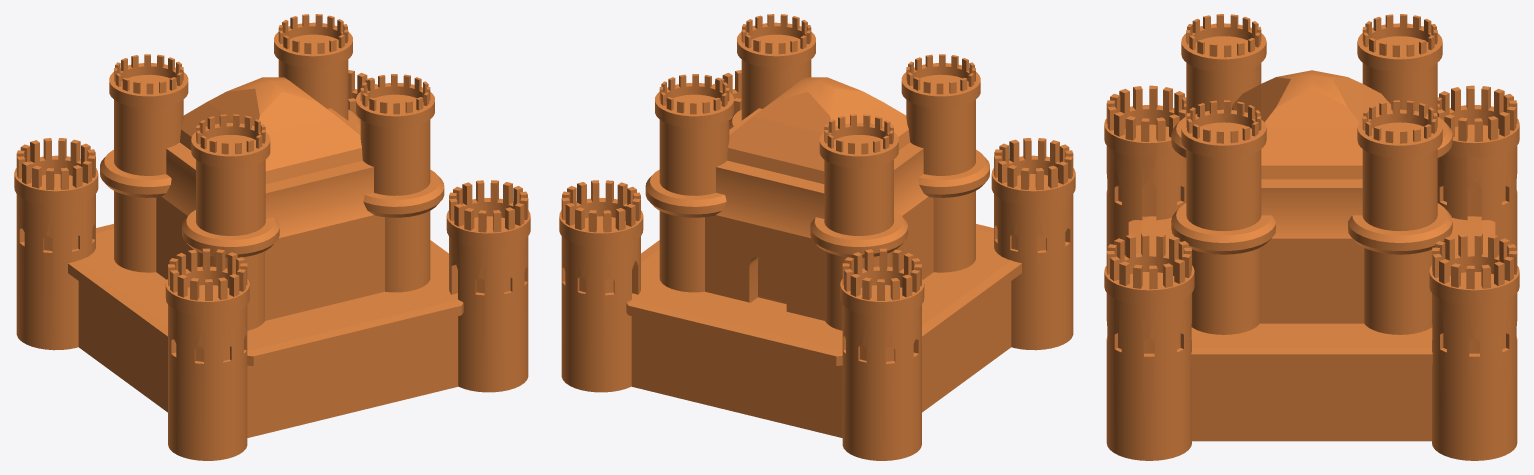
File: Castelo_Castle.fbx
The picture shows the model from 3 angles, left to right: view 1: azimuth 30°, elevation 25°; view 2: azimuth 150°, elevation 25°; view 3: azimuth 270°, elevation 25°; orthographic projection. The views are drawn at different scales.
Visible parts, largest first — view 1: Castle; view 2: Castle; view 3: Castle.
Part boxes in pixels (box(x1,y1,x2,y2)): Castle: box(14, 14, 530, 460); Castle: box(559, 14, 1075, 460); Castle: box(1104, 14, 1519, 460).
Size of the model in its own units: 14029 by 10449 by 13286.
